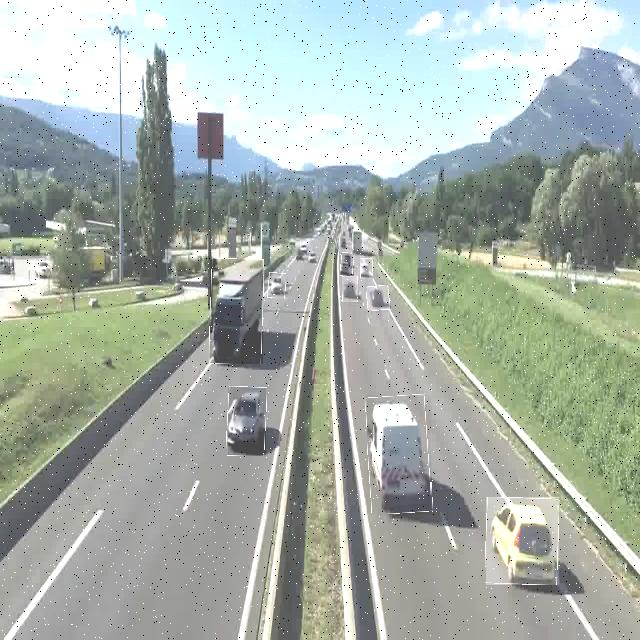Car: (368, 395, 432, 514), (486, 497, 559, 585), (228, 387, 266, 456), (367, 286, 389, 310), (268, 273, 285, 298), (342, 276, 358, 302), (340, 253, 354, 276), (360, 258, 373, 279)
Truck: (210, 259, 263, 364), (352, 229, 364, 255)
